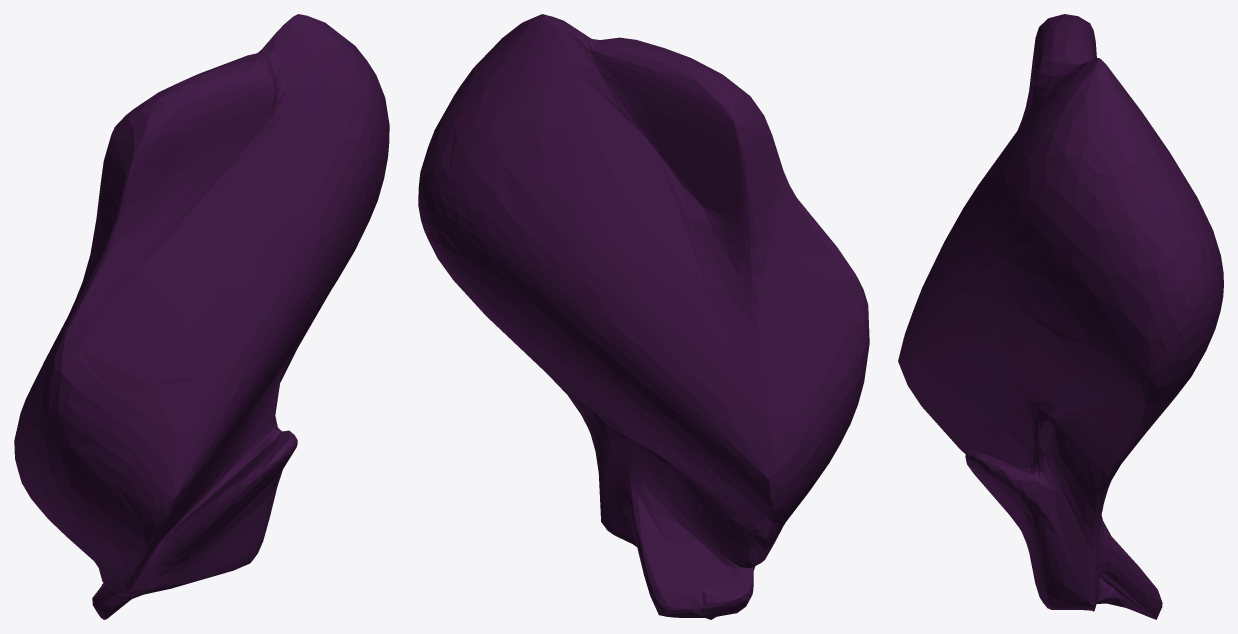
3 views of the same model, side by side, from view 1: azimuth 30°, elevation 25°; view 2: azimuth 150°, elevation 25°; view 3: azimuth 270°, elevation 25° (orthographic). The views are drawn at different scales.
Parts seen in each view (by area): view 1: 530_Cube.2138; view 2: 530_Cube.2138; view 3: 530_Cube.2138.
Boxes of the visible parts, <box> form: 530_Cube.2138: <box>14,14,389,619</box>; 530_Cube.2138: <box>418,14,869,619</box>; 530_Cube.2138: <box>898,14,1223,619</box>.
Bounding box in the file's own units: 9.87 × 13.58 × 6.25.
